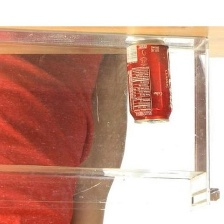can: (118, 37, 182, 130)
